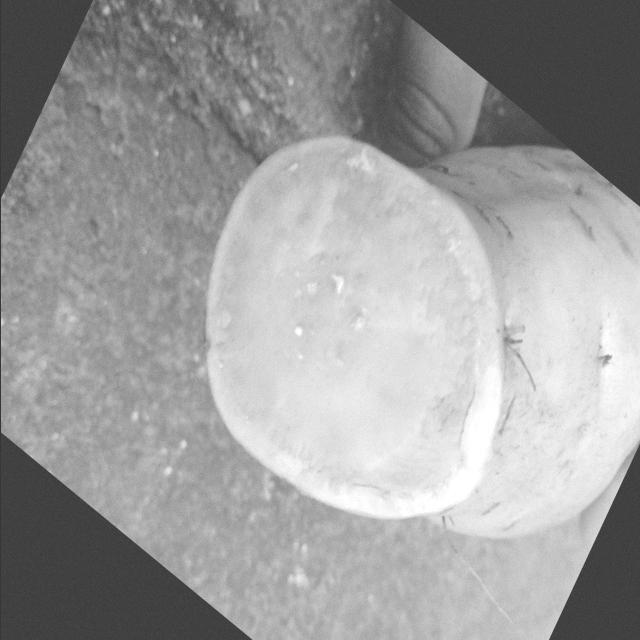Healthy Sweet Potato: (204, 137, 501, 518)
